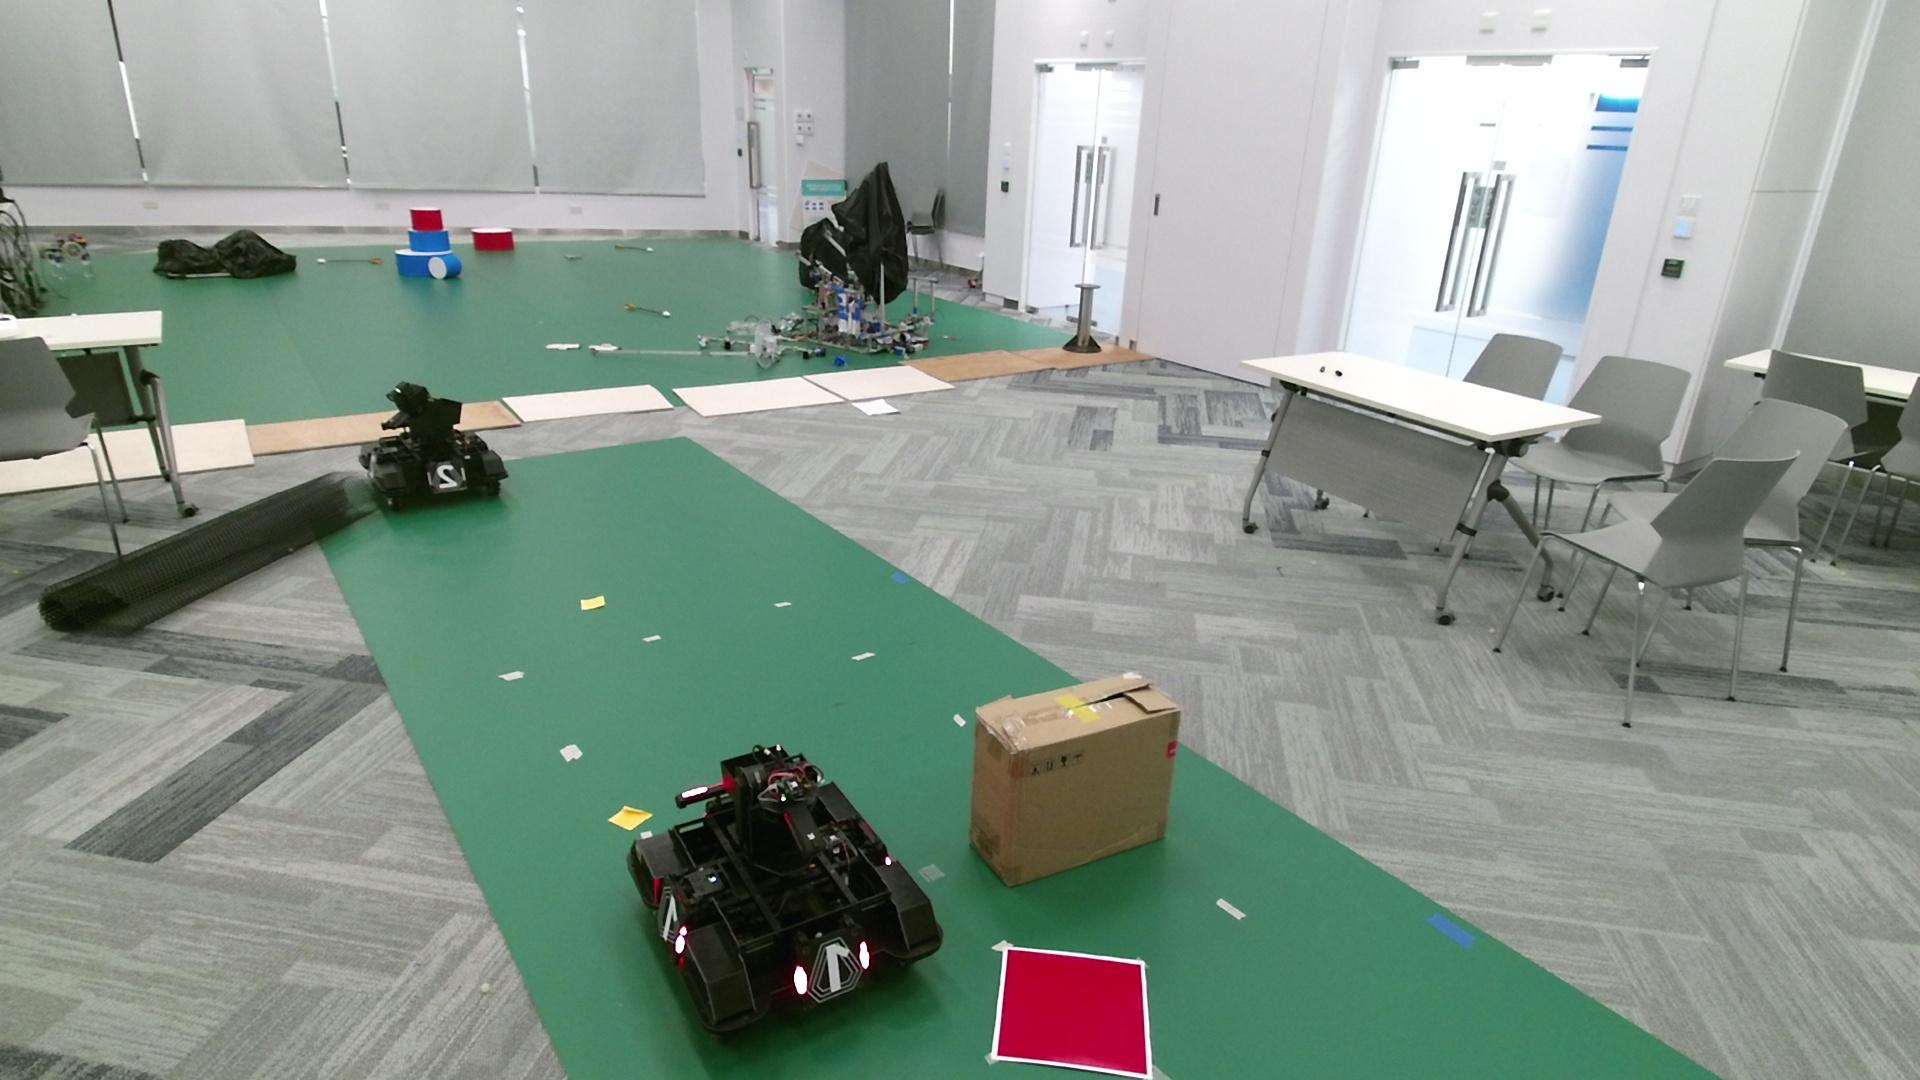robot: (626, 740, 942, 1040), (357, 380, 510, 512)
